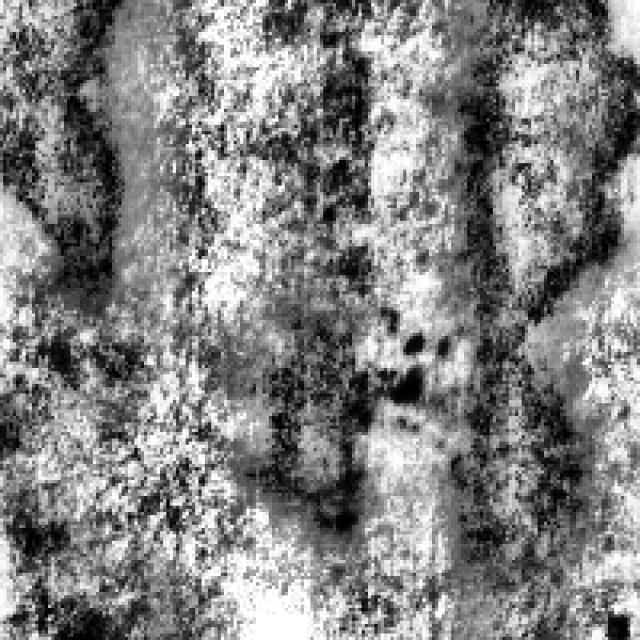Patches: (390, 314, 448, 401)
Scratches: (445, 0, 637, 573), (0, 0, 131, 310), (237, 307, 368, 528)
